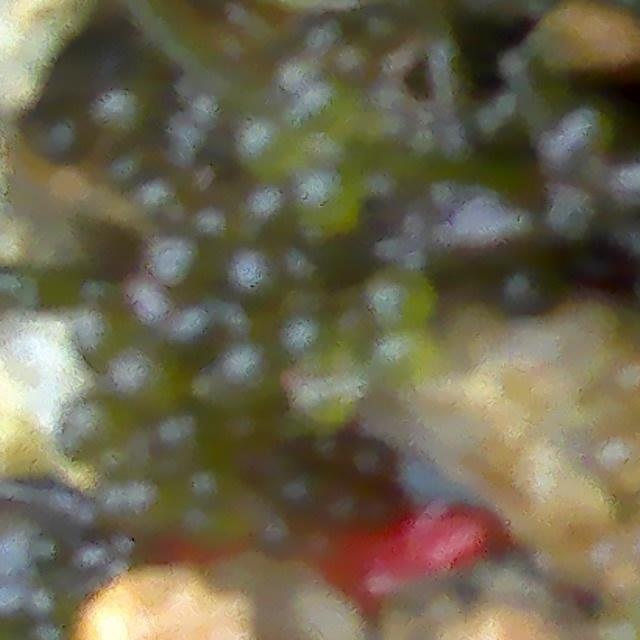SeaGrape: (149, 231, 226, 300), (154, 302, 226, 374), (229, 241, 295, 318), (236, 118, 306, 183), (371, 267, 435, 329), (299, 171, 358, 230), (347, 433, 400, 489), (275, 466, 327, 516)
